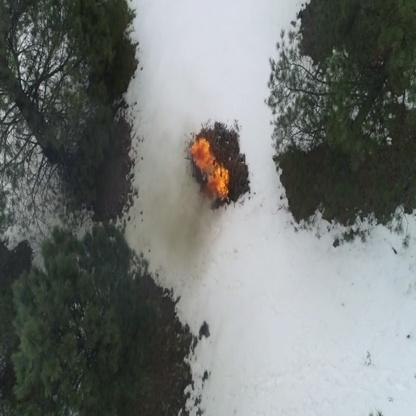Fire: (190, 138, 214, 172), (211, 163, 228, 198), (202, 180, 212, 200)
